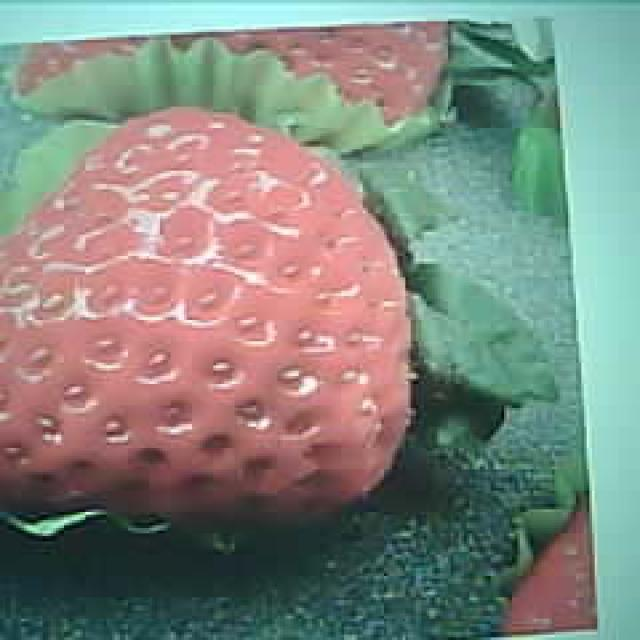ripe: (0, 108, 417, 530)
